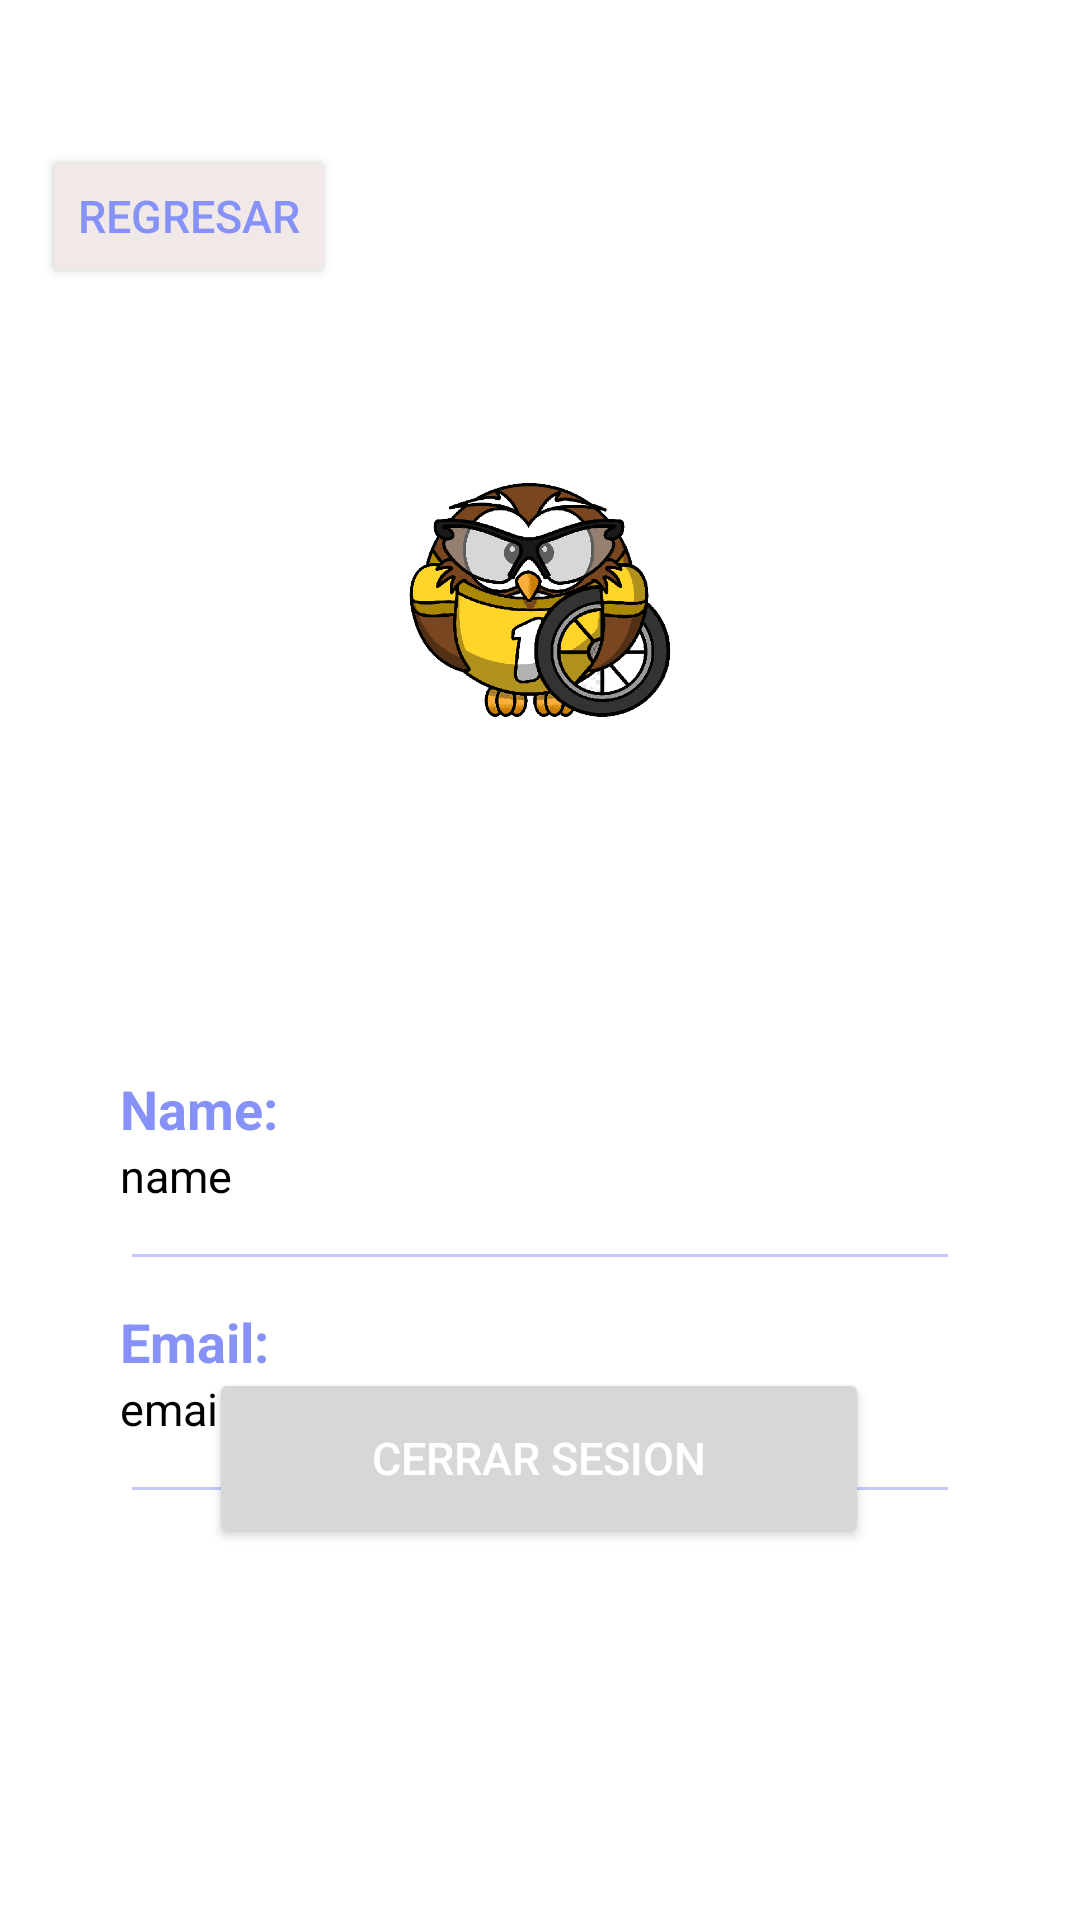

Where icons sit on this 1080px×1920px app screen, as (x1, y1, x2, y2):
buho: (409, 483, 670, 717)
